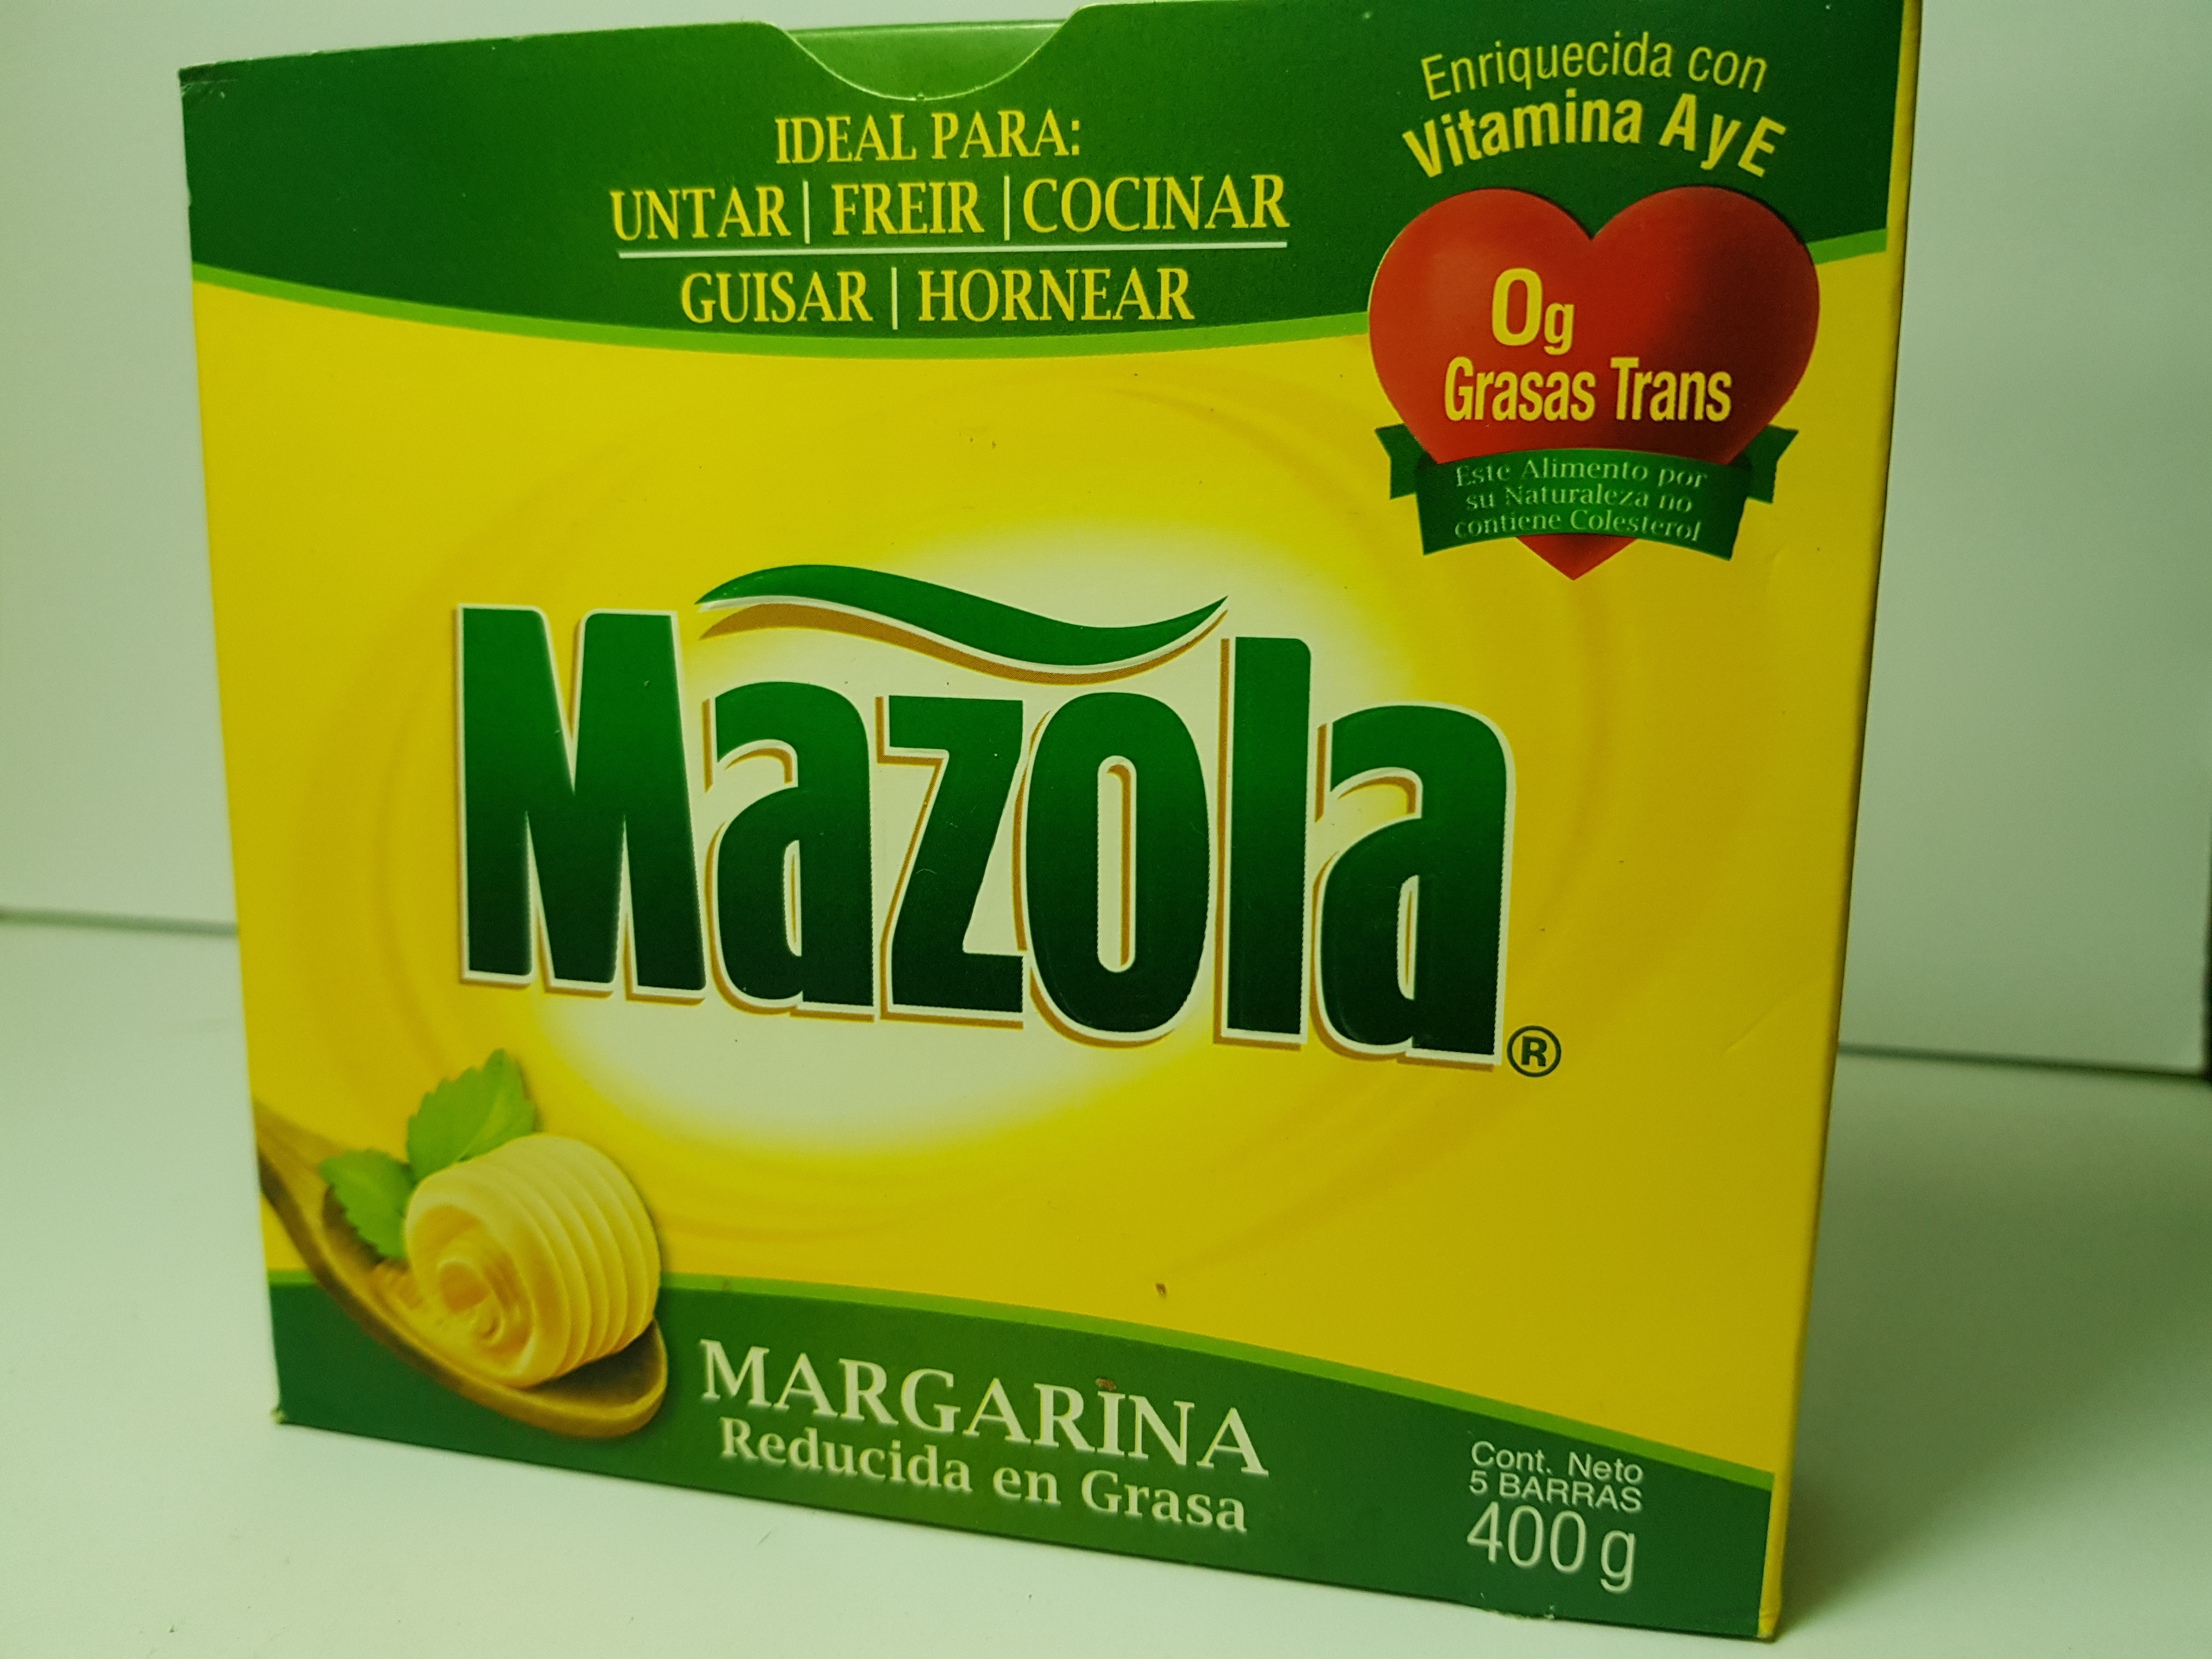mazola: (152, 5, 1966, 1659)
